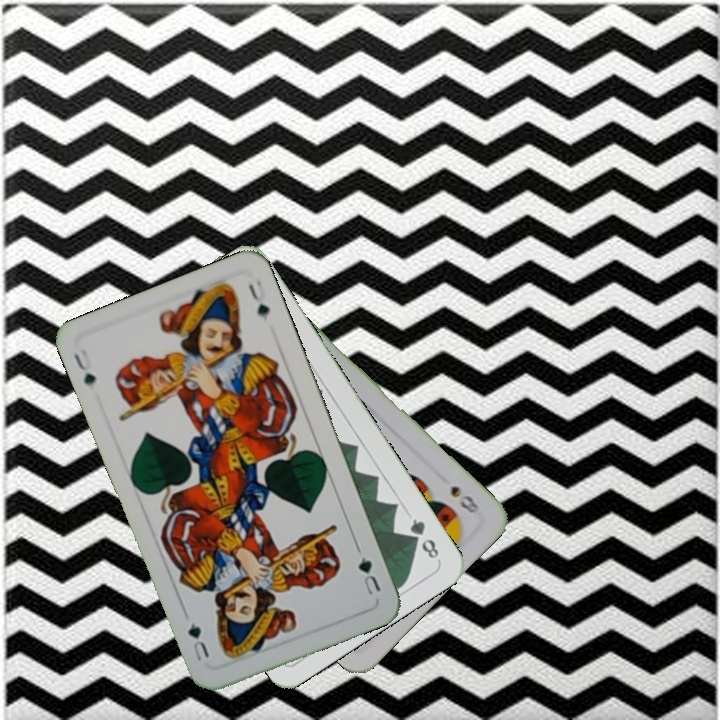G8: (405, 514, 442, 562)
GU: (353, 543, 384, 598), (69, 344, 99, 390)
S8: (446, 481, 482, 516)
